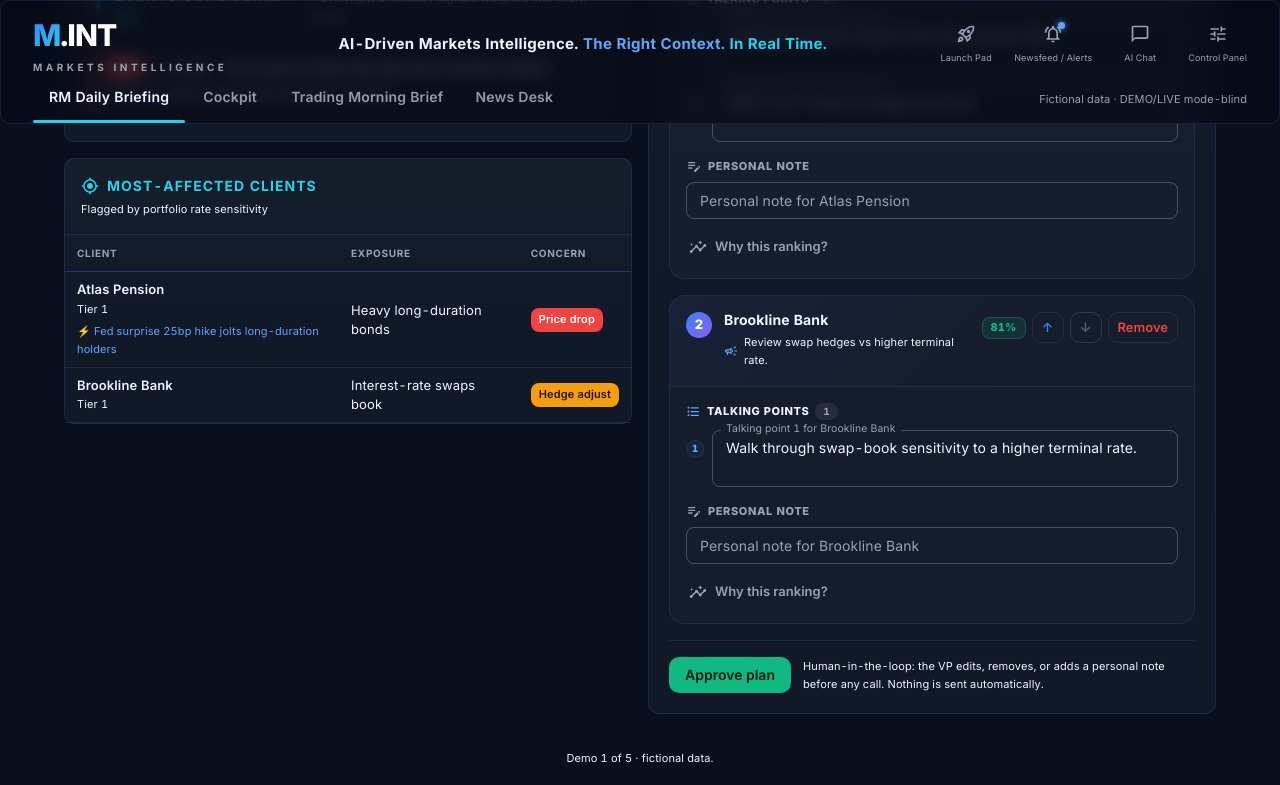
MorningBriefScene call plan › approves locally without issuing another outbound request
(page scrolled)
Click the button "Approve plan".
click(730, 675)  # box x1=669 y1=657 x2=791 y2=693
(page scrolled)
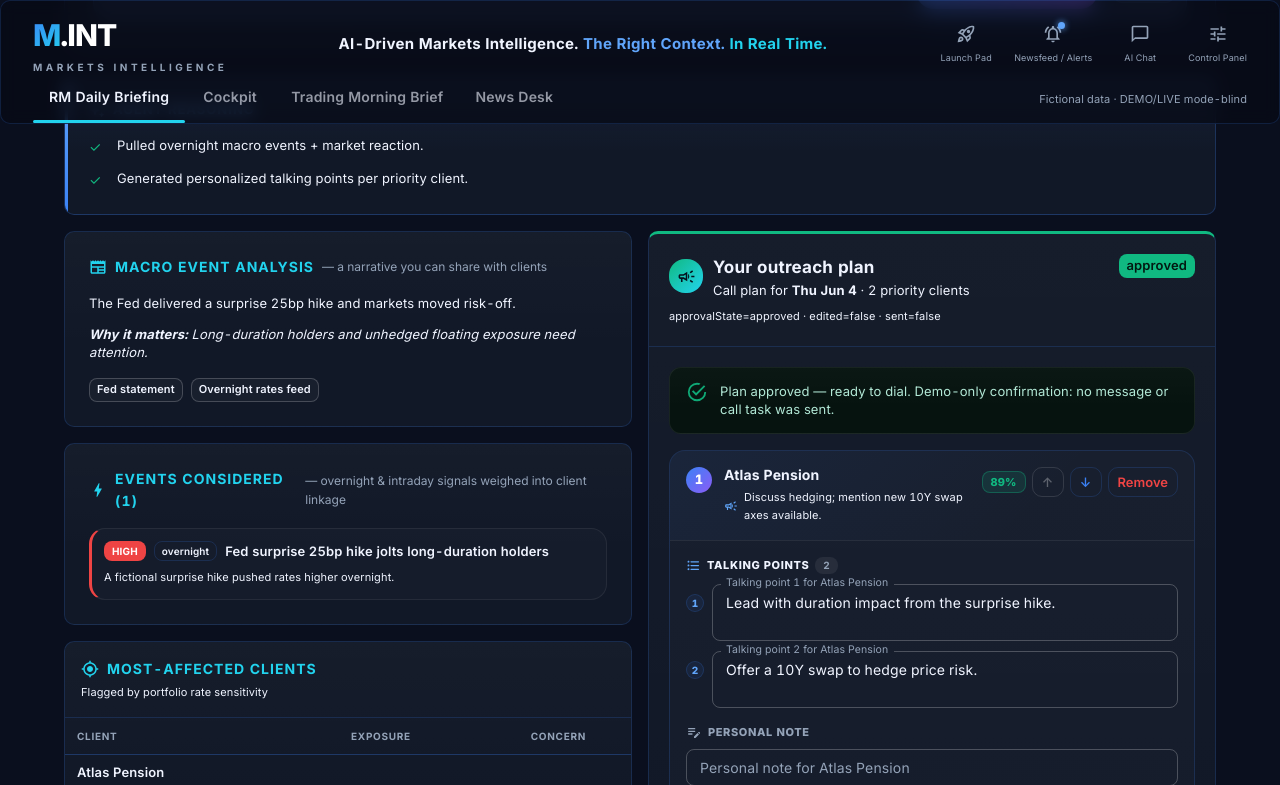
Check: the text with test id "call-plan-status" shows "sent=false", box x1=669 y1=309 x2=941 y2=323
Check: the text with test id "call-plan-status" shows "approvalState=approved", box x1=669 y1=309 x2=941 y2=323
Check: the text "Plan approved — ready to dial" is shown, box x1=720 y1=383 x2=1169 y2=417
